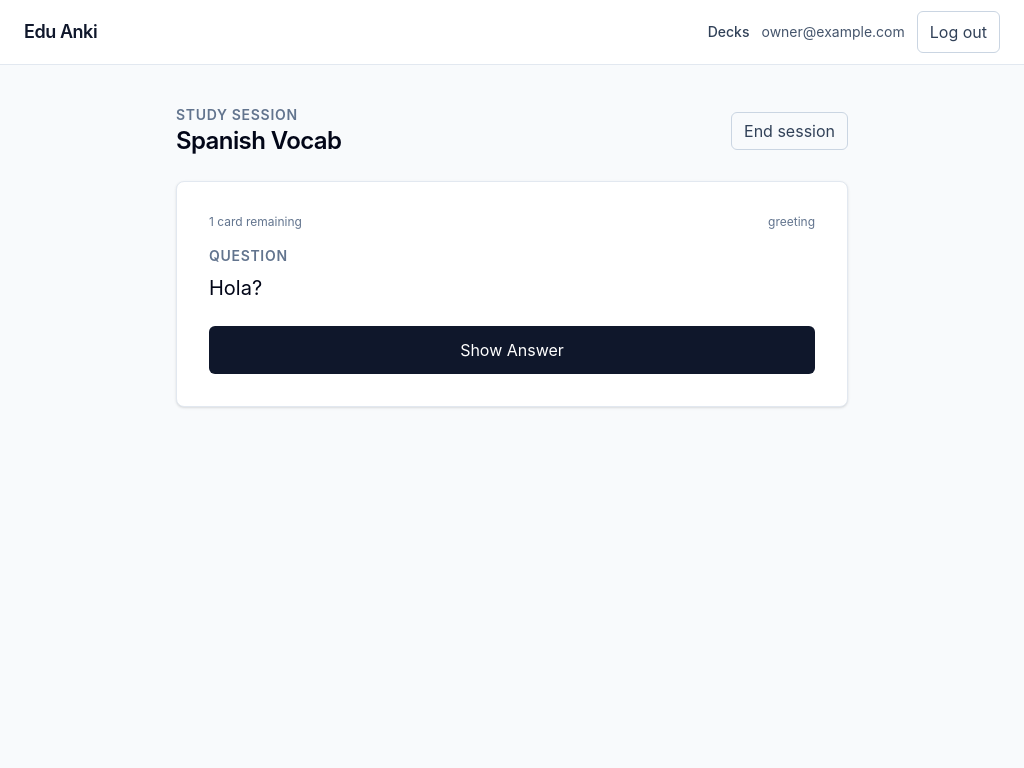
Test case: Study route › ends the session gracefully when no more cards are due
The image size is (1024, 768).
Expected: the text "Hola?" is shown, [209,276,262,300]
Click the button "Show Answer" at (512,350), box [209,326,815,374]
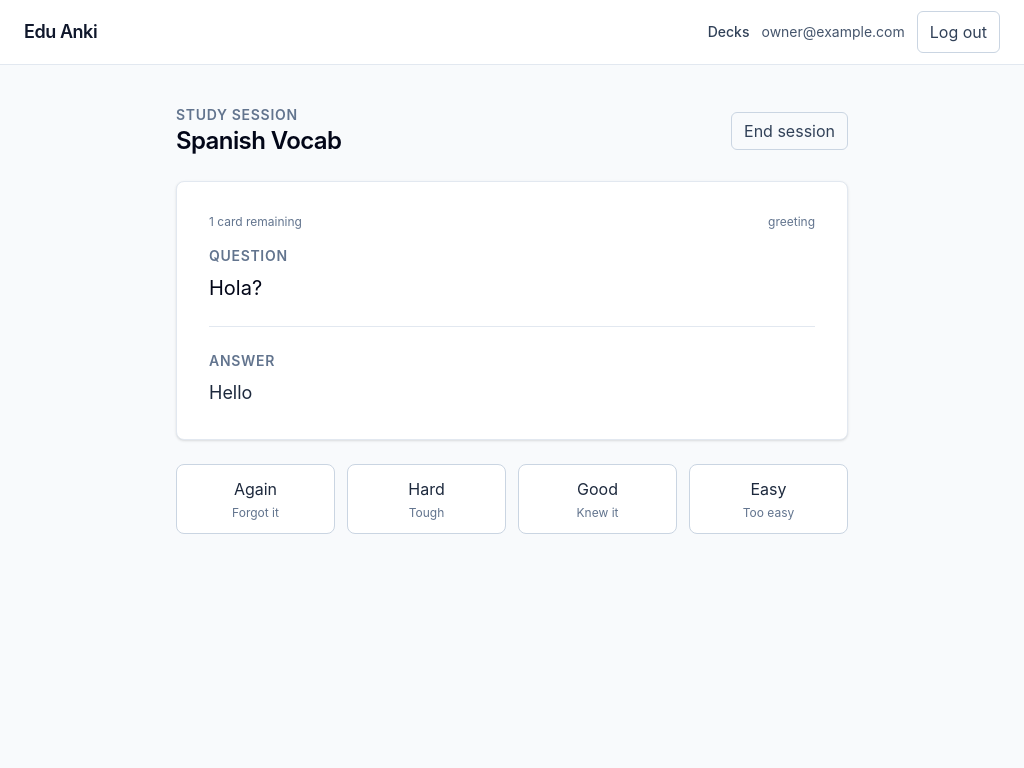
Click the button "Good Knew it" at (598,499), box [518,464,677,534]
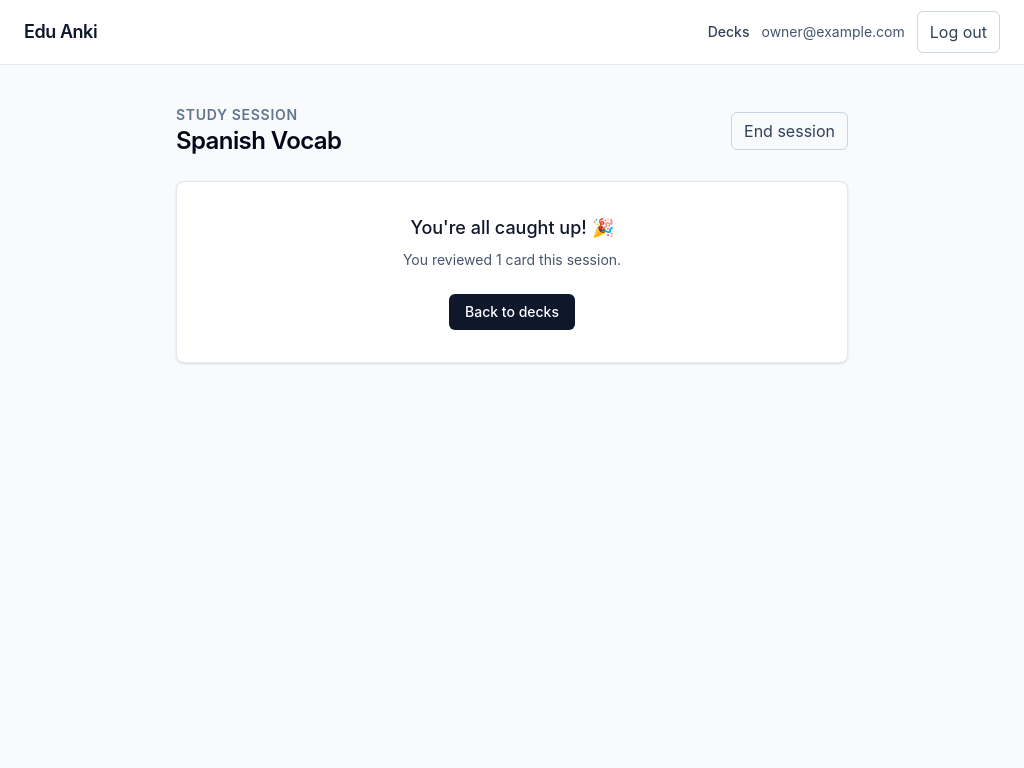
Now the text "You're all caught up! 🎉" is shown, box [410,217,614,238]
Now the text "You reviewed 1 card this session." is shown, box [403,251,621,268]
Now the link "Back to decks" is shown, box [449,294,575,330]
